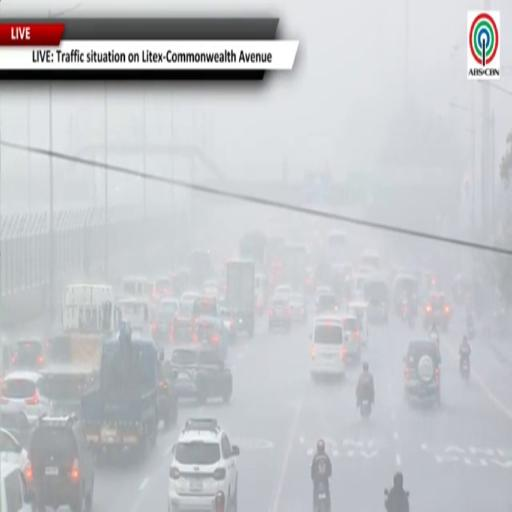car: (168, 419, 239, 511), (26, 415, 94, 511), (171, 345, 232, 404), (41, 363, 99, 413), (0, 371, 51, 423), (404, 340, 440, 404), (310, 315, 346, 379), (0, 461, 34, 511), (194, 316, 229, 360), (158, 361, 178, 429), (364, 275, 389, 324), (152, 297, 179, 342), (0, 428, 27, 473), (11, 339, 45, 371), (2, 412, 33, 447), (424, 293, 451, 330), (342, 314, 362, 362), (348, 301, 368, 345), (170, 315, 198, 345), (268, 297, 292, 331), (192, 295, 219, 318), (220, 307, 237, 342), (316, 292, 340, 315), (180, 292, 200, 318), (290, 293, 307, 323), (153, 277, 173, 302), (361, 250, 381, 270), (315, 285, 332, 305), (273, 284, 292, 298)
motorcycle: (314, 483, 330, 511), (385, 489, 400, 511), (460, 357, 470, 380), (360, 398, 371, 418), (401, 300, 409, 323), (466, 323, 475, 340)
truck: (81, 326, 163, 457), (42, 283, 118, 413), (224, 261, 255, 338), (283, 244, 308, 290), (239, 230, 267, 270), (190, 249, 214, 289)
